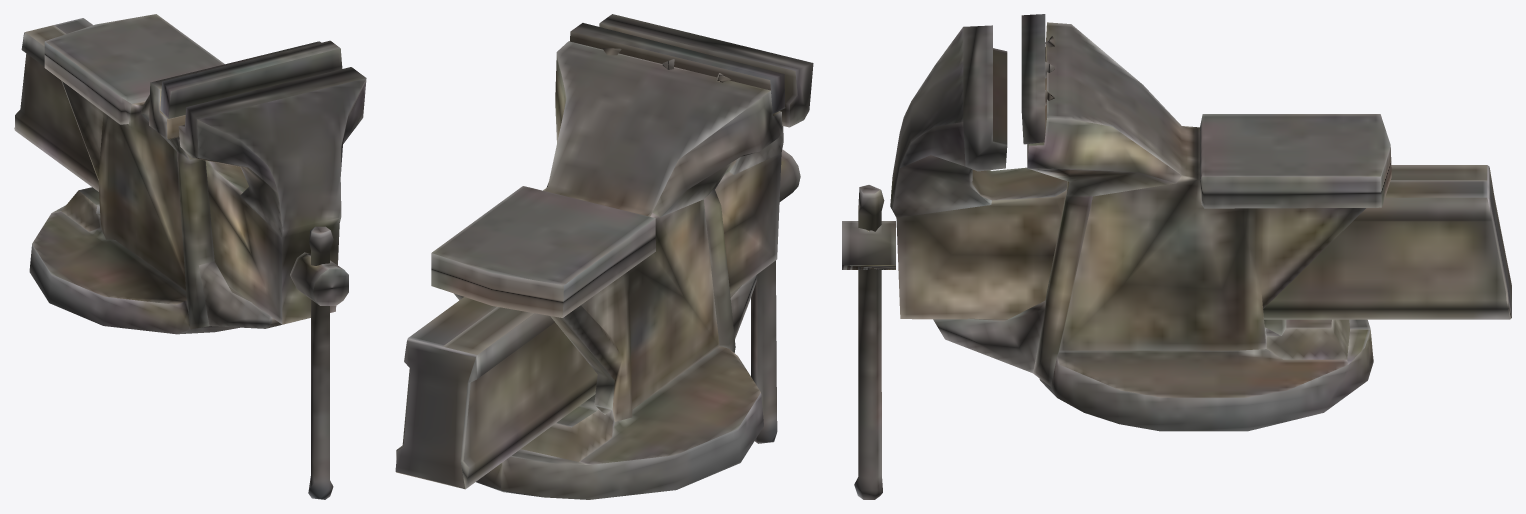
The model's file is vise_lo.glb.
3 views of the same model, side by side, from view 1: azimuth 30°, elevation 25°; view 2: azimuth 150°, elevation 25°; view 3: azimuth 270°, elevation 25° (orthographic). The views are drawn at different scales.
Parts seen in each view (by area): view 1: bench_vice_frame, bench_vice_clamp, bench_vice_bar, bench_vice_dial; view 2: bench_vice_frame, bench_vice_clamp, bench_vice_bar, bench_vice_dial; view 3: bench_vice_frame, bench_vice_clamp, bench_vice_bar, bench_vice_dial.
Boxes of the visible parts, bbox=[...] form: bench_vice_frame: bbox=[29, 14, 342, 334]; bench_vice_clamp: bbox=[14, 18, 366, 324]; bench_vice_bar: bbox=[308, 226, 333, 499]; bench_vice_dial: bbox=[290, 252, 348, 305]; bench_vice_frame: bbox=[431, 23, 785, 499]; bench_vice_clamp: bbox=[395, 14, 813, 489]; bench_vice_bar: bbox=[751, 260, 777, 443]; bench_vice_dial: bbox=[779, 149, 800, 201]; bench_vice_frame: bbox=[933, 14, 1391, 431]; bench_vice_clamp: bbox=[890, 25, 1511, 319]; bench_vice_bar: bbox=[854, 185, 884, 499]; bench_vice_dial: bbox=[842, 221, 895, 269].
Size of the model in its own units: 0.1971 by 0.2835 by 0.3948.
1 material, 1 textured.
